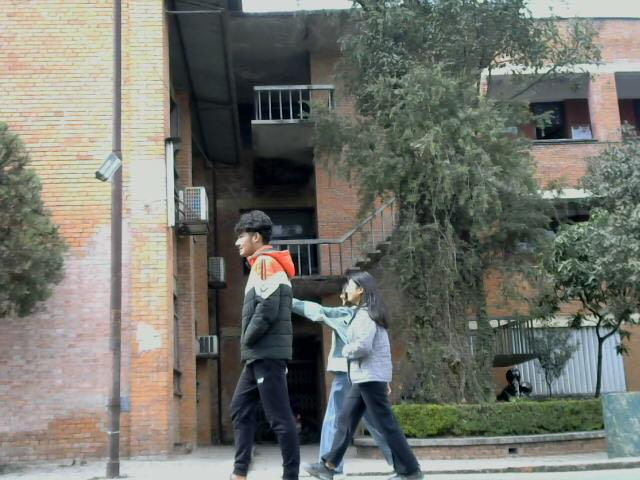Building: (151, 5, 360, 204)
Dustbin: (602, 392, 640, 460)
Electrical Pole: (97, 0, 121, 477)
Person: (320, 270, 431, 479), (230, 209, 304, 480)
Tree: (342, 1, 544, 248), (0, 124, 67, 344), (582, 132, 640, 306)
